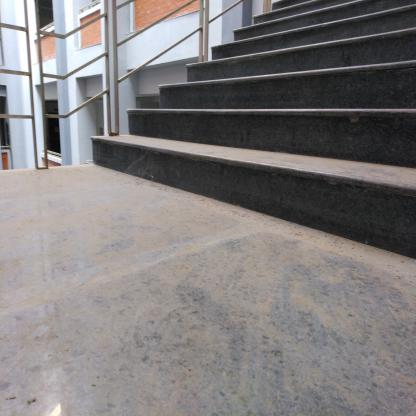stairs: (234, 28, 416, 245)
